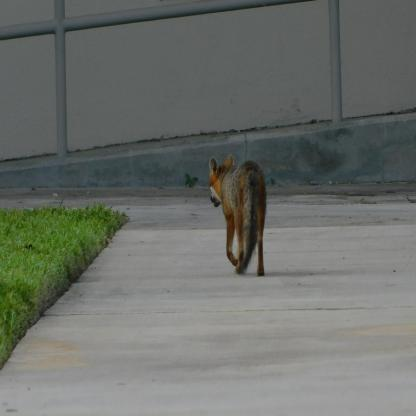zorro: (204, 152, 275, 283)
